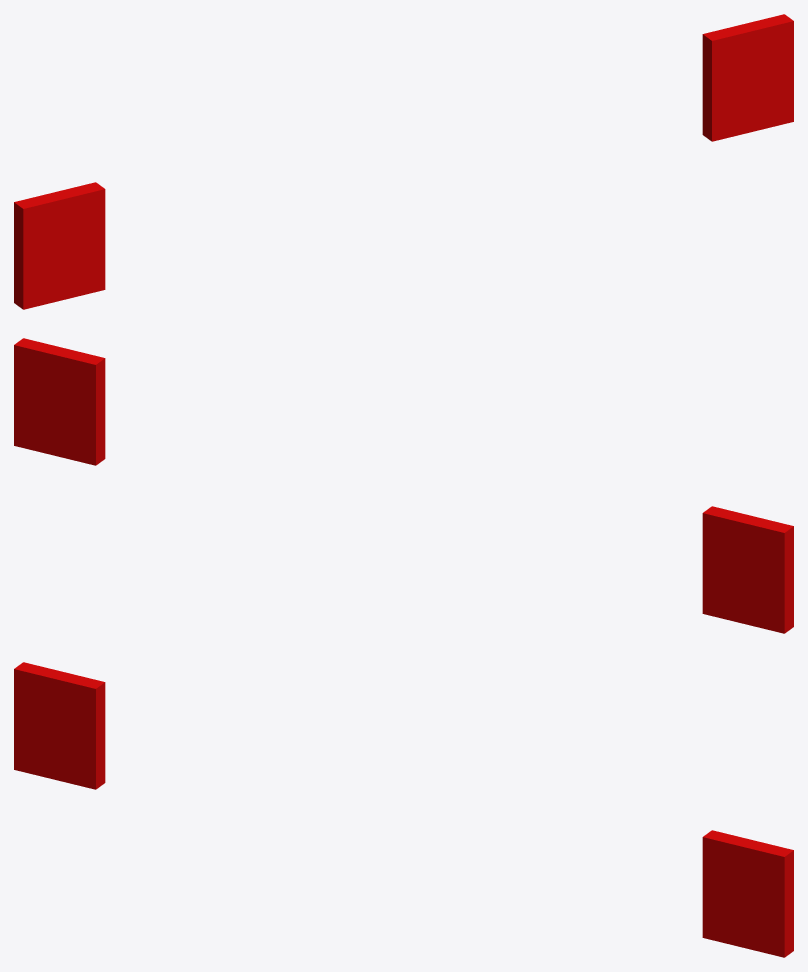
Rendered from SM_OutsideTrimMainDoorCollider.fbx.
The picture shows the model from 3 angles, top to bottom: view 1: azimuth 30°, elevation 25°; view 2: azimuth 150°, elevation 25°; view 3: azimuth 330°, elevation 25°; orthographic projection.
Visible parts, largest first — view 1: OutsideTrimMainDoorCollision; view 2: OutsideTrimMainDoorCollision; view 3: OutsideTrimMainDoorCollision.
Part boxes in pixels (x1,y1,x2,y2): OutsideTrimMainDoorCollision: [14, 14, 793, 309]; OutsideTrimMainDoorCollision: [14, 338, 793, 633]; OutsideTrimMainDoorCollision: [14, 662, 793, 957].
Bounding box in the file's own units: 400 × 50 × 8.45.
